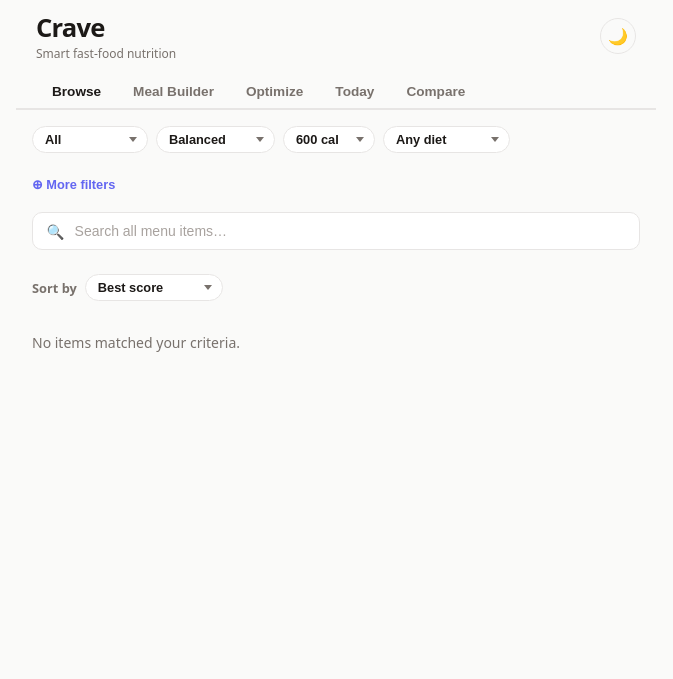
App smoke — tabs and navigation › switches which nutrient the weekly chart tracks
Click the tab "Today".
click(355, 92)  # box top-left (319, 74), bottom-right (390, 110)
(page scrolled)
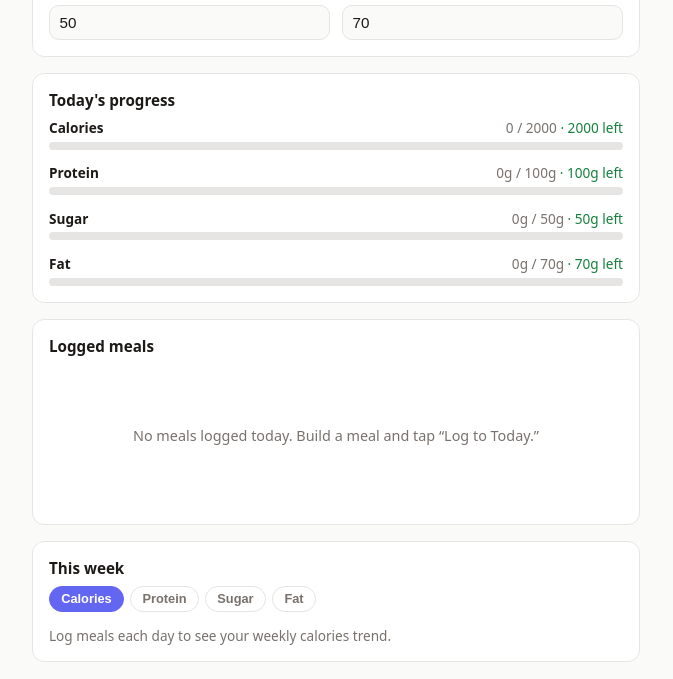
expect the text "Log meals each day to see your weekly calories trend." is shown: met, box top-left (49, 626), bottom-right (391, 645)
Click the button "Protein".
click(165, 599)  # box top-left (130, 586), bottom-right (199, 612)
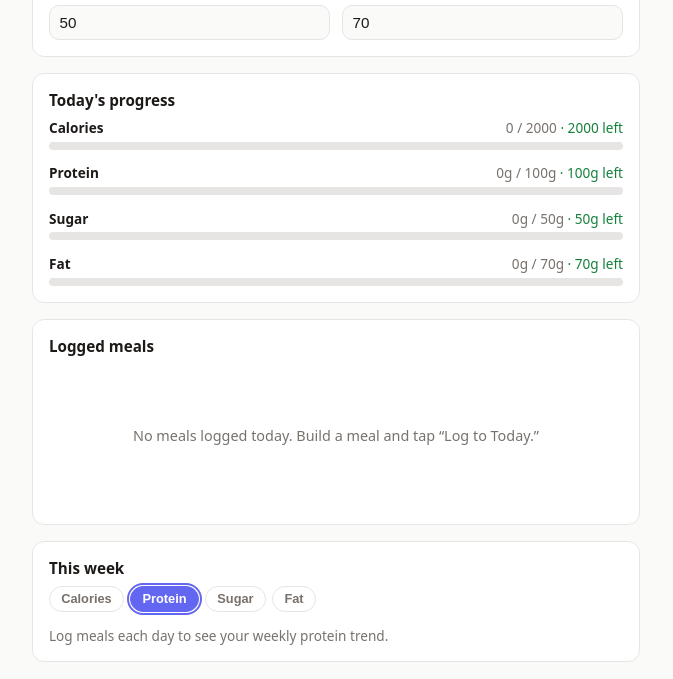
expect the text "Log meals each day to see your weekly protein trend." is shown: met, box top-left (49, 626), bottom-right (388, 645)
